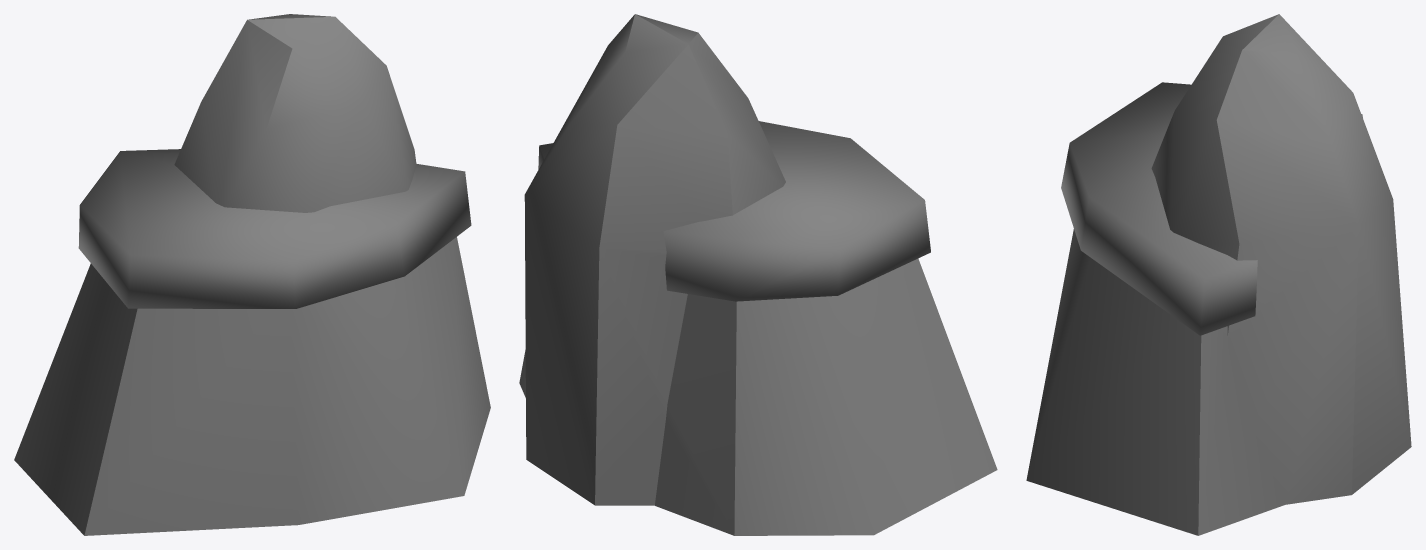
File: rocks_snow_C_blue.fbx
3 views of the same model, side by side, from view 1: azimuth 30°, elevation 25°; view 2: azimuth 150°, elevation 25°; view 3: azimuth 270°, elevation 25° (orthographic). The views are drawn at different scales.
Parts seen in each view (by area): view 1: rocks_snow_C_blue; view 2: rocks_snow_C_blue; view 3: rocks_snow_C_blue.
Part boxes in pixels (x1,y1,x2,y2): rocks_snow_C_blue: (14, 14, 490, 535); rocks_snow_C_blue: (519, 14, 997, 535); rocks_snow_C_blue: (1026, 14, 1411, 535).
Size of the model in its own units: 1.84 by 1.65 by 1.37.
